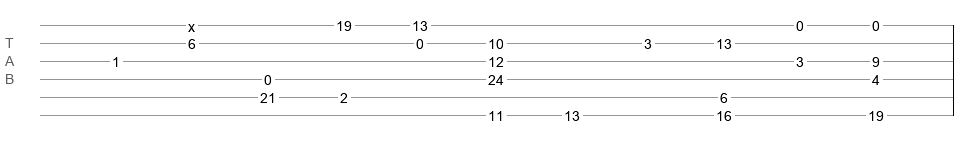0: (264, 72, 272, 82), (416, 36, 424, 46), (796, 18, 804, 28), (872, 18, 880, 28)
1: (112, 54, 120, 64)
10: (488, 36, 504, 46)
11: (488, 108, 504, 118)
12: (488, 54, 504, 64)
13: (412, 18, 428, 28), (564, 108, 580, 118), (716, 36, 732, 46)
16: (716, 108, 732, 118)
19: (336, 18, 352, 28), (868, 108, 884, 118)
2: (340, 90, 348, 100)
21: (260, 90, 276, 100)
24: (488, 72, 504, 82)
3: (644, 36, 652, 46), (796, 54, 804, 64)
4: (872, 72, 880, 82)
6: (188, 36, 196, 46), (720, 90, 728, 100)
9: (872, 54, 880, 64)
x: (188, 19, 195, 27)
